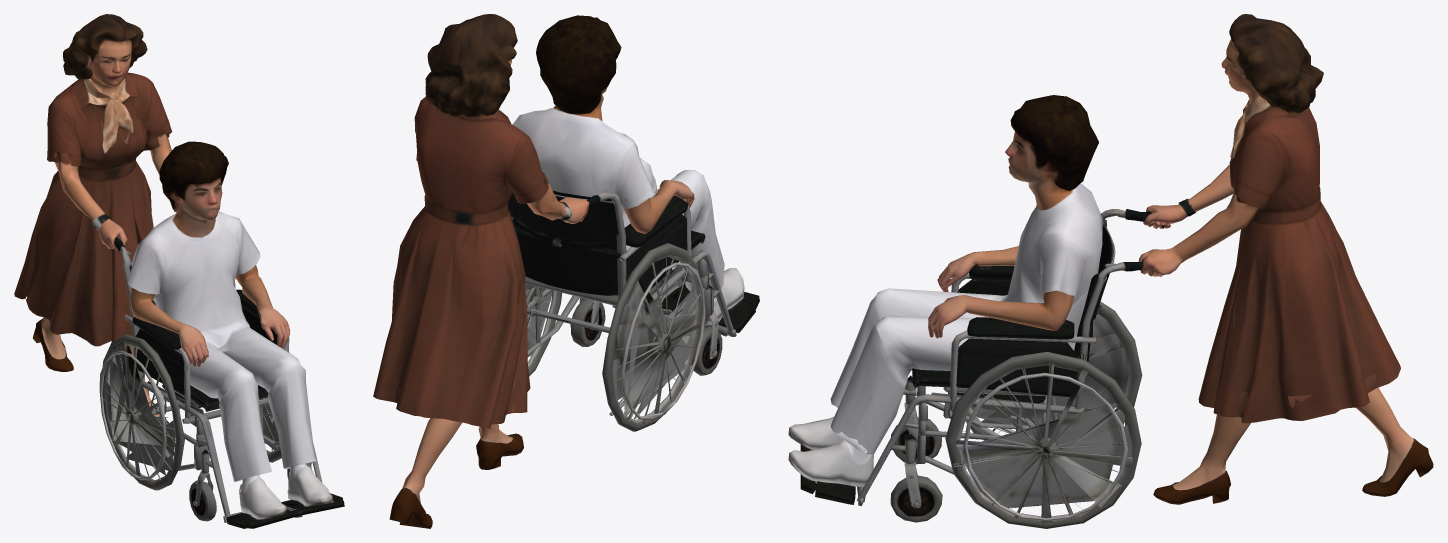
Rendered from 3д мама самана перепутала.glb.
3 renders of one model, left to right at view 1: azimuth 30°, elevation 25°; view 2: azimuth 150°, elevation 25°; view 3: azimuth 270°, elevation 25°, orthographic. The views are drawn at different scales.
Visible parts, largest first — view 1: geometry_0; view 2: geometry_0; view 3: geometry_0.
Boxes of the visible parts, left/top/right/bottom form: geometry_0: left=14, top=14, right=344, bottom=528; geometry_0: left=373, top=14, right=759, bottom=528; geometry_0: left=788, top=14, right=1433, bottom=528.
Size of the model in its own units: 0.2896 by 0.7671 by 0.9497.
Materials: 1 (1 with a texture image).
